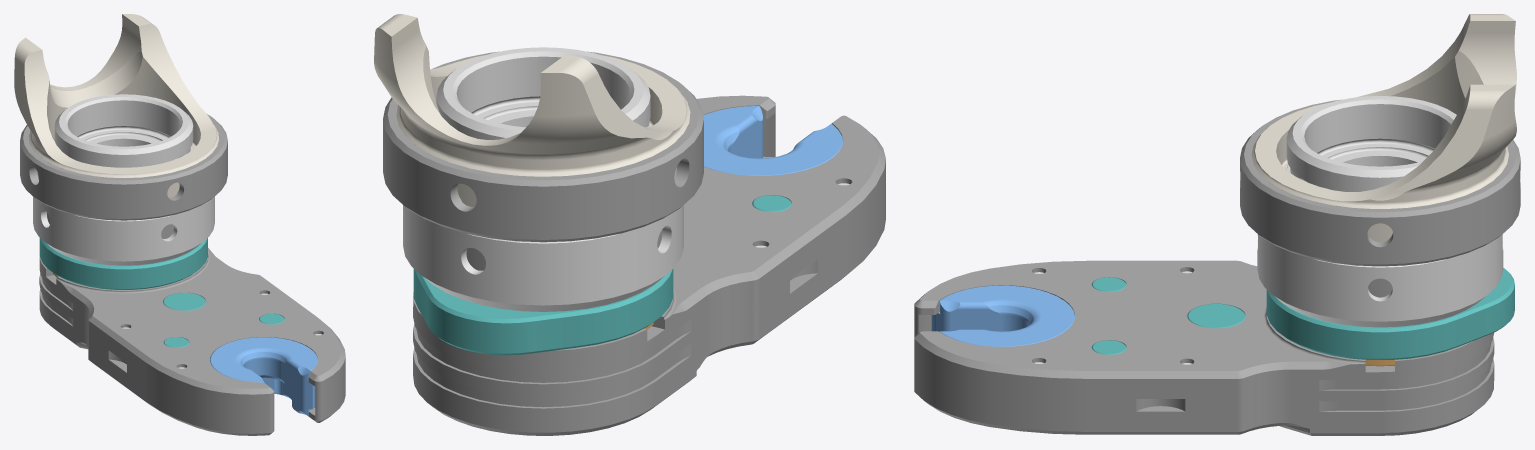
The model's file is tool2.glb.
3 views of the same model, side by side, from view 1: azimuth 30°, elevation 25°; view 2: azimuth 150°, elevation 25°; view 3: azimuth 270°, elevation 25° (orthographic). The views are drawn at different scales.
Parts seen in each view (by area): view 1: 3512160081_ASM, 3512390380_ASM, 3513000000_ASM; view 2: 3512160081_ASM, 3512390380_ASM, 3513000000_ASM; view 3: 3512160081_ASM, 3512390380_ASM, 3513000000_ASM.
Part boxes in pixels (bbox=[...]): 3512160081_ASM: bbox=[33, 196, 345, 435]; 3512390380_ASM: bbox=[14, 14, 227, 238]; 3513000000_ASM: bbox=[210, 337, 317, 417]; 3512160081_ASM: bbox=[403, 95, 885, 435]; 3512390380_ASM: bbox=[374, 14, 703, 270]; 3513000000_ASM: bbox=[703, 106, 842, 175]; 3512160081_ASM: bbox=[914, 234, 1514, 435]; 3512390380_ASM: bbox=[1240, 14, 1520, 297]; 3513000000_ASM: bbox=[931, 285, 1074, 346].
Size of the model in its own units: 0.048 by 0.065 by 0.1036.
